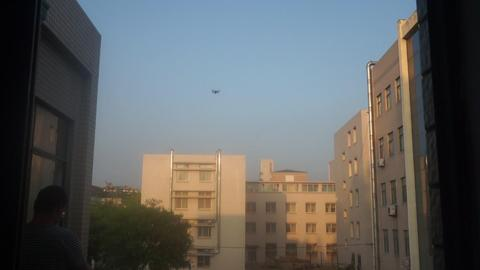UAV: (212, 90, 220, 94)
